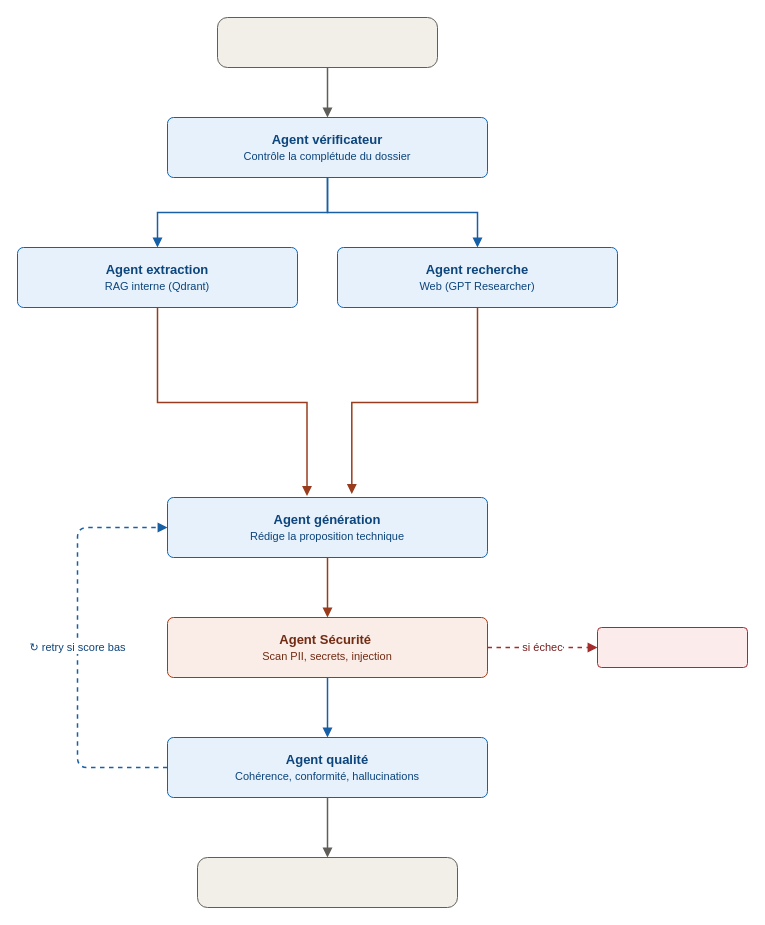
This 765x925 diagram has some shape labels left out. Here are the shapes that lost their labels. From the top down, the centre of each, then its label:
point (327, 42): Dossier AO reçu
point (672, 647): Alerte humaine
point (327, 882): Proposition livrée (versionnée)
